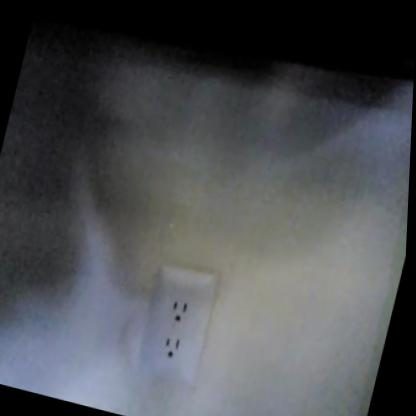OUTLET: (128, 258, 222, 393)
